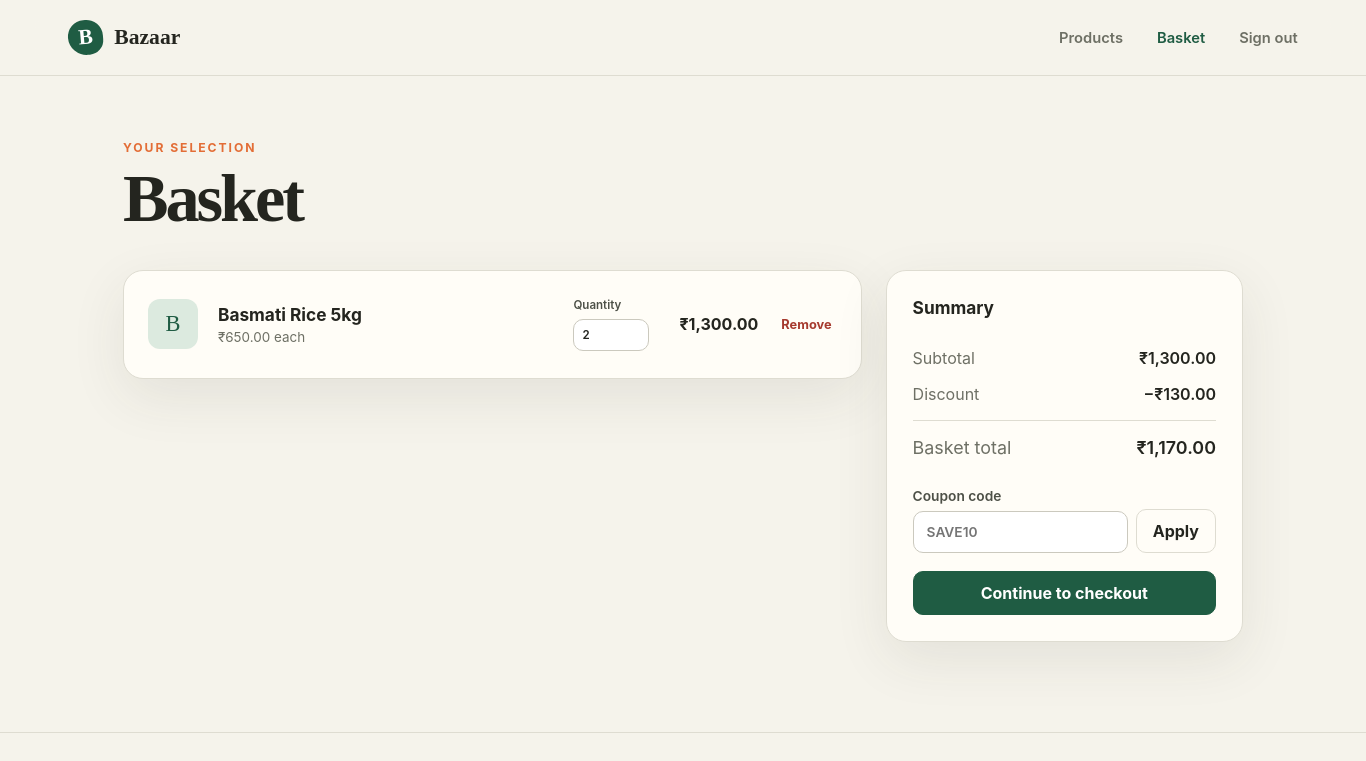
commerce web › changes basket quantity, removes a line, and rerenders totals
This screenshot has width=1366, height=761.
Replace the text in the number field named "Quantity for Basmati Rice 5kg" with "3" at (612, 335), box [574,319,650,351]
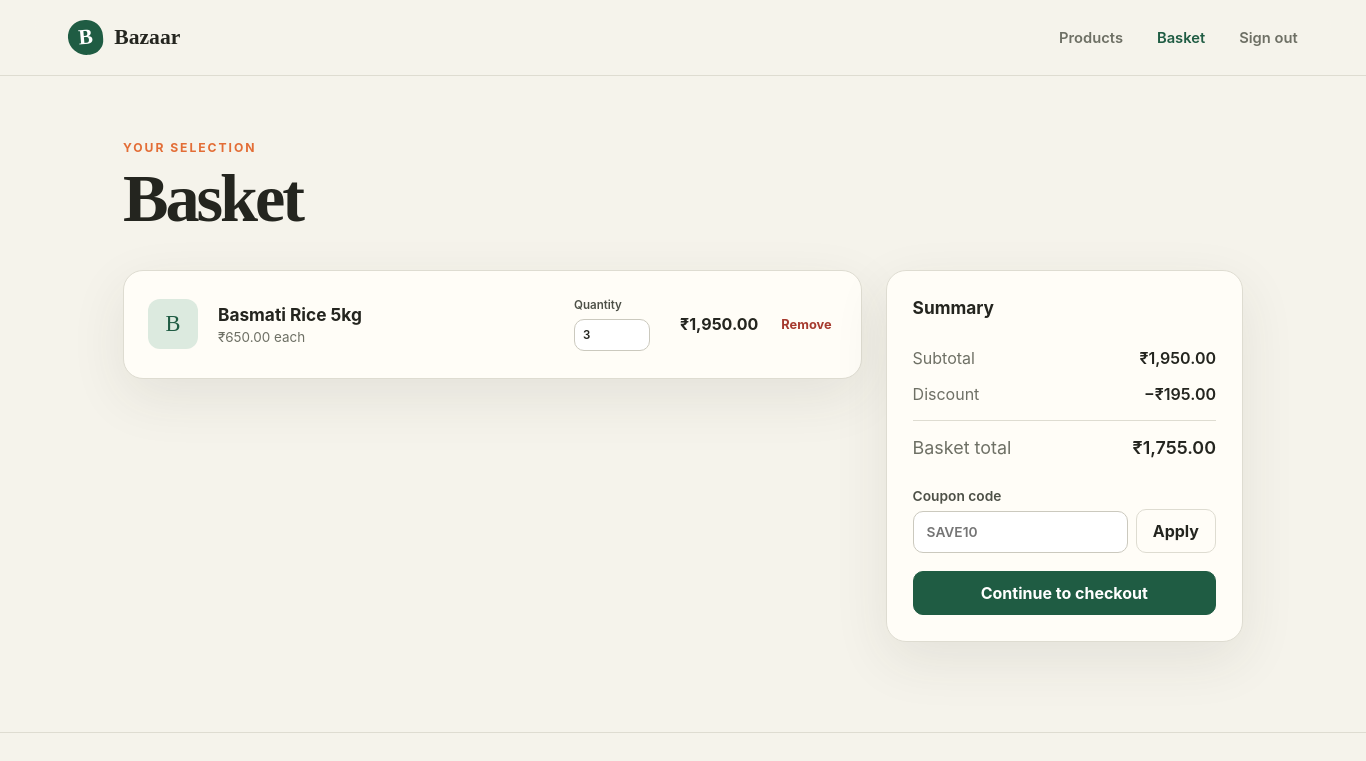
Click the button "Remove".
click(806, 324)  # box [776,312,837,337]
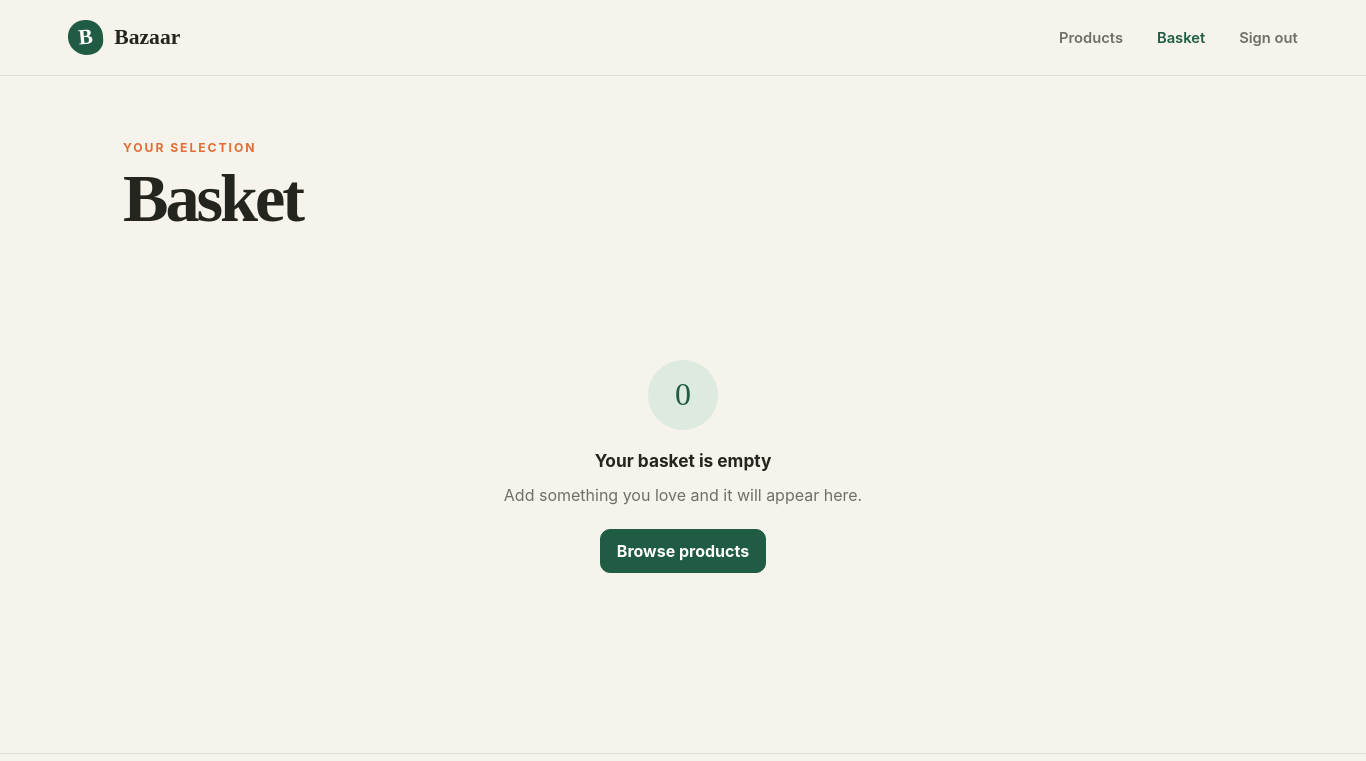
Check: the heading "Your basket is empty" is shown, box [595,450,771,471]
